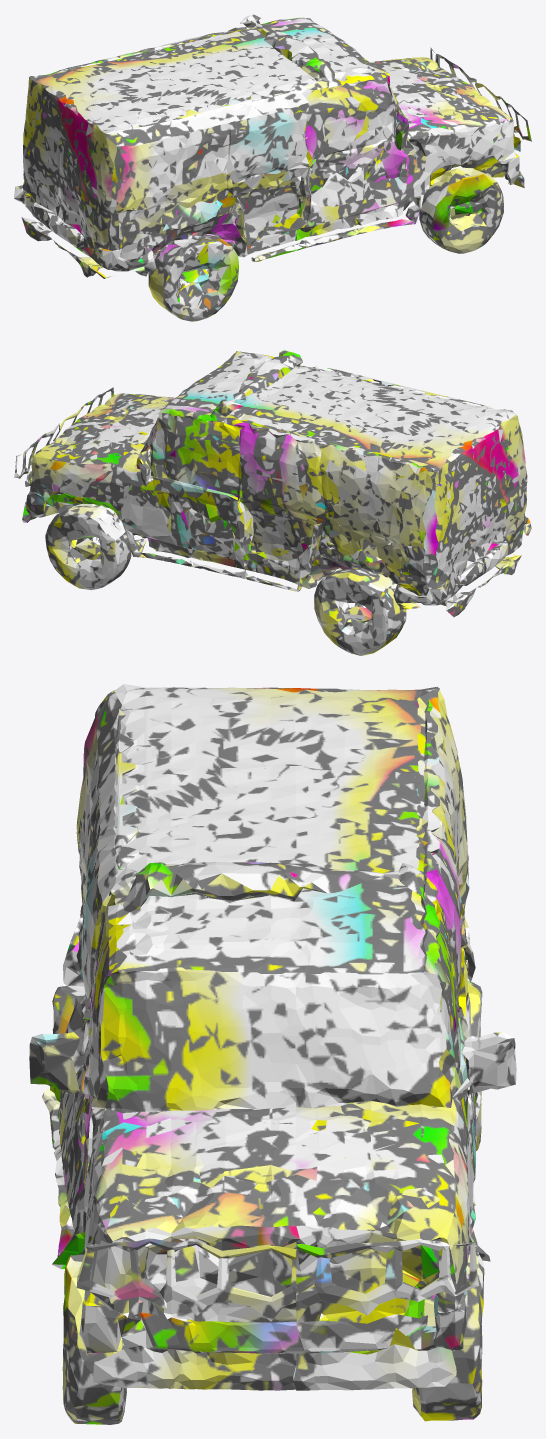
3 views of the same model, one above another, from view 1: azimuth 30°, elevation 25°; view 2: azimuth 150°, elevation 25°; view 3: azimuth 270°, elevation 25° (orthographic). The views are drawn at different scales.
Size of the model in its own units: 0.8975 by 0.4143 by 0.4325.
